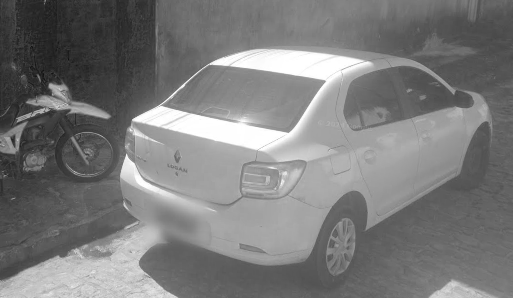car: (113, 45, 497, 281)
